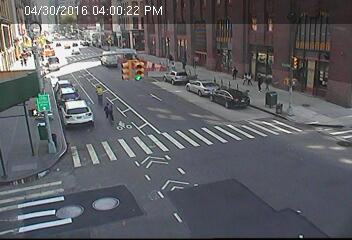neg: (96, 150, 127, 191), (5, 138, 30, 171), (29, 199, 52, 230), (3, 186, 24, 214), (289, 33, 310, 61), (326, 64, 347, 91), (45, 100, 64, 126), (10, 80, 29, 105), (170, 22, 188, 46), (50, 56, 67, 79), (159, 76, 175, 98), (150, 117, 166, 139), (128, 78, 144, 99), (216, 23, 232, 44), (224, 126, 240, 147), (264, 132, 279, 151), (295, 122, 309, 142), (77, 5, 85, 14), (226, 99, 233, 108)
pos: (259, 73, 275, 95), (254, 71, 269, 92), (228, 63, 242, 82), (245, 71, 258, 88), (15, 51, 28, 67), (165, 50, 177, 66), (180, 56, 192, 72), (237, 73, 249, 88)
